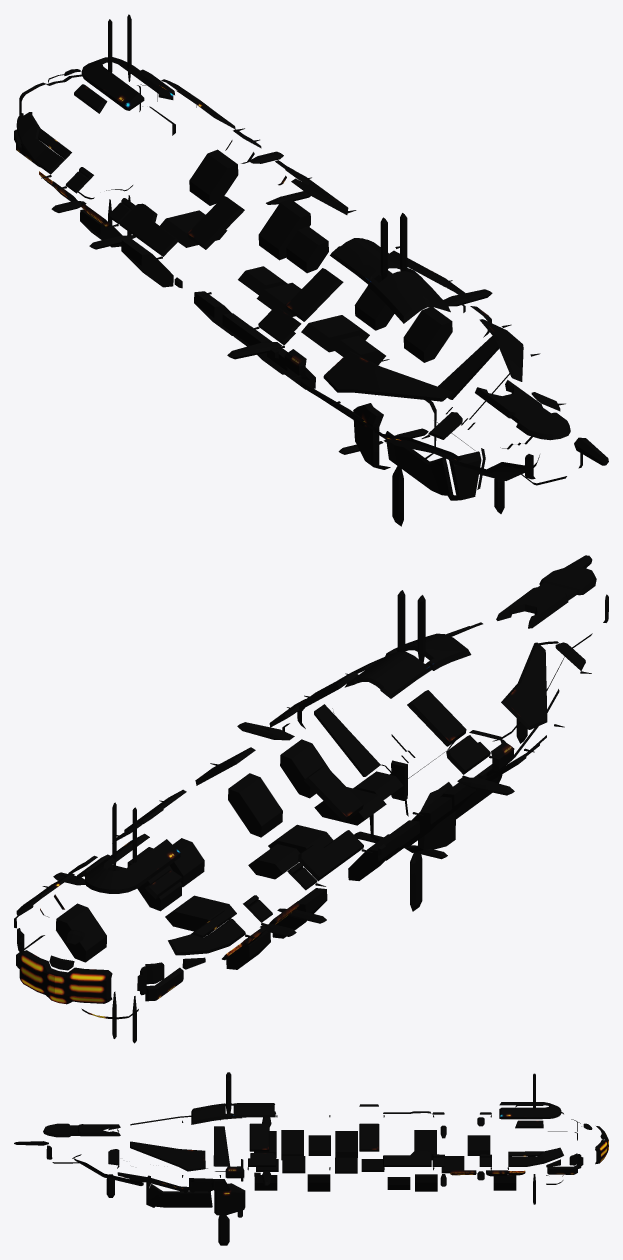
File: tr1_cf_frei_02_t1.glb
3 views of the same model, one above another, from view 1: azimuth 30°, elevation 25°; view 2: azimuth 150°, elevation 25°; view 3: azimuth 270°, elevation 25° (orthographic). The views are drawn at different scales.
Visible parts, largest first — view 1: tr1_cf_frei_02_t1_LOD0; view 2: tr1_cf_frei_02_t1_LOD0; view 3: tr1_cf_frei_02_t1_LOD0.
Boxes of the visible parts, x1,y1,x2,y2 form: tr1_cf_frei_02_t1_LOD0: [14, 14, 608, 526]; tr1_cf_frei_02_t1_LOD0: [14, 555, 608, 1043]; tr1_cf_frei_02_t1_LOD0: [14, 1072, 608, 1245].
Size of what is drawn, in the model's own units: 4.05 by 4.49 by 14.22.
1 material, 1 textured.
